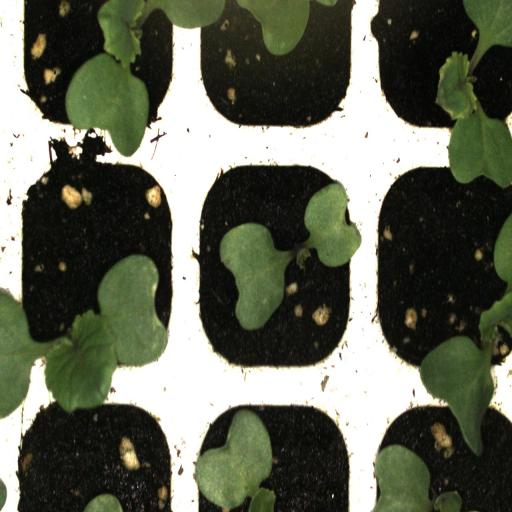seedling: (185, 146, 363, 385), (10, 145, 186, 383), (365, 143, 512, 386), (10, 0, 186, 144), (364, 0, 512, 142)
